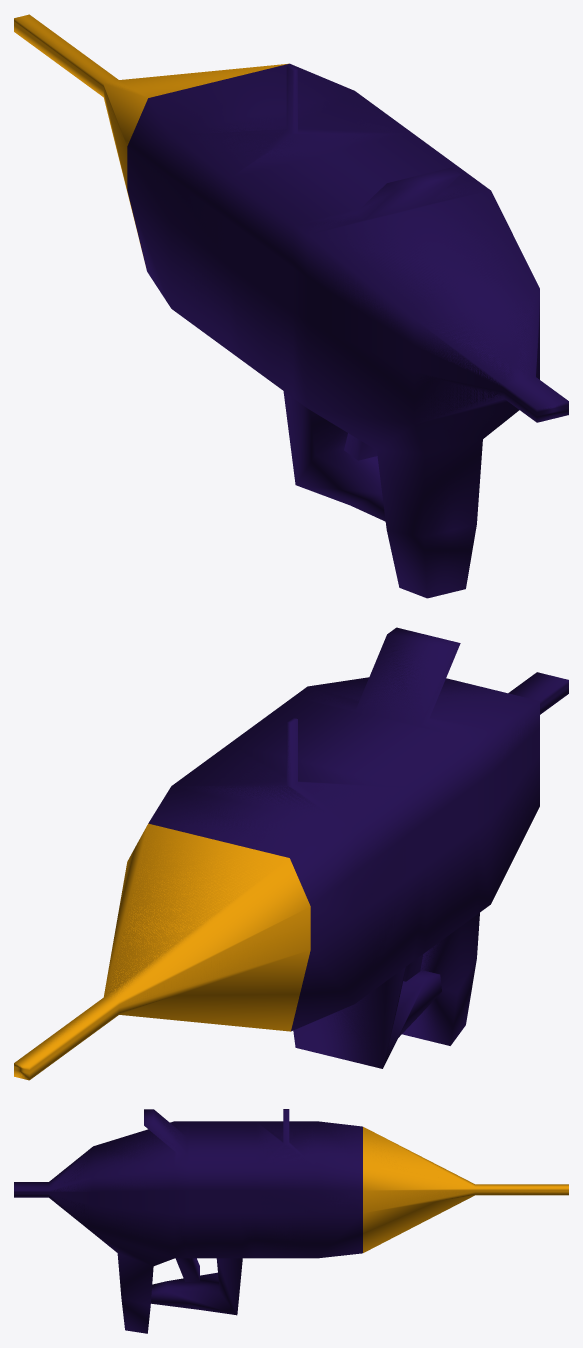
Rendered from LaserPistol.fbx.
3 views of the same model, one above another, from view 1: azimuth 30°, elevation 25°; view 2: azimuth 150°, elevation 25°; view 3: azimuth 270°, elevation 25° (orthographic). The views are drawn at different scales.
Visible parts, largest first — view 1: Cube; view 2: Cube; view 3: Cube.
Part boxes in pixels (x1=…): Cube: x1=14, y1=14, x2=568, y2=598; Cube: x1=14, y1=627, x2=568, y2=1080; Cube: x1=14, y1=1109, x2=568, y2=1333.
Size of the model in its own units: 11.92 by 25.85 by 59.79.
